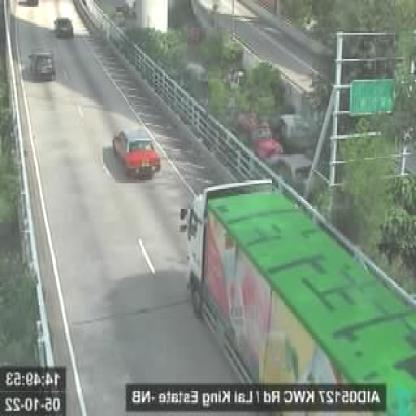Car: (112, 125, 160, 180), (29, 47, 54, 80), (55, 14, 74, 36)
Truck: (181, 180, 416, 414)
